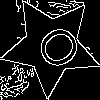O: (26, 21, 84, 79)
